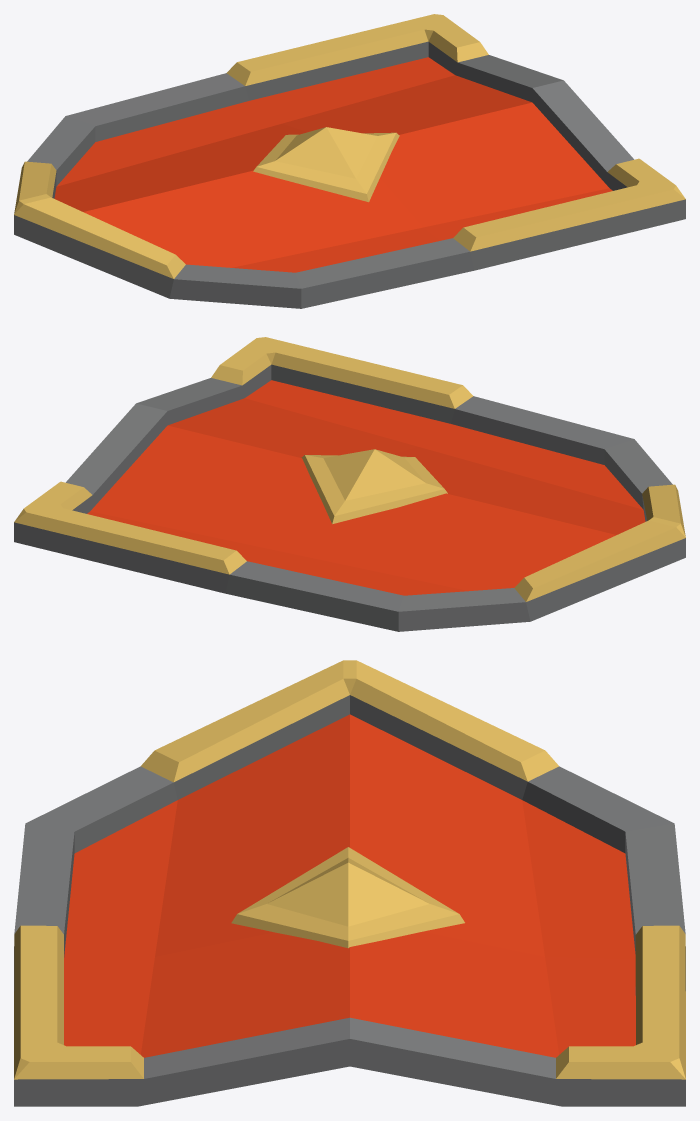
Rendered from shield2.fbx.
The picture shows the model from 3 angles, top to bottom: view 1: azimuth 30°, elevation 25°; view 2: azimuth 150°, elevation 25°; view 3: azimuth 270°, elevation 25°; orthographic projection. The views are drawn at different scales.
Visible parts, largest first — view 1: shield2, Cone; view 2: shield2, Cone; view 3: shield2, Cone.
Part boxes in pixels (x1,y1,x2,y2): shield2: (14,14,685,308); Cone: (253,127,399,202); shield2: (14,337,685,631); Cone: (301,449,447,523); shield2: (14,660,685,1106); Cone: (231,847,464,948).
Size of the model in its own units: 260 by 27.67 by 200.
